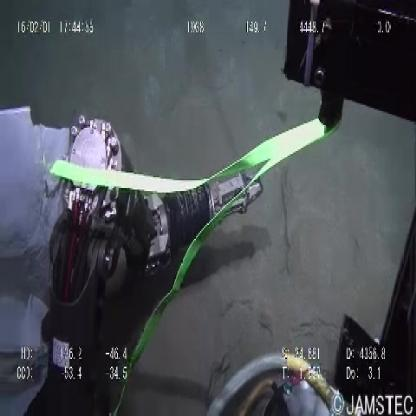Rov: (280, 2, 416, 399), (46, 106, 265, 336)
